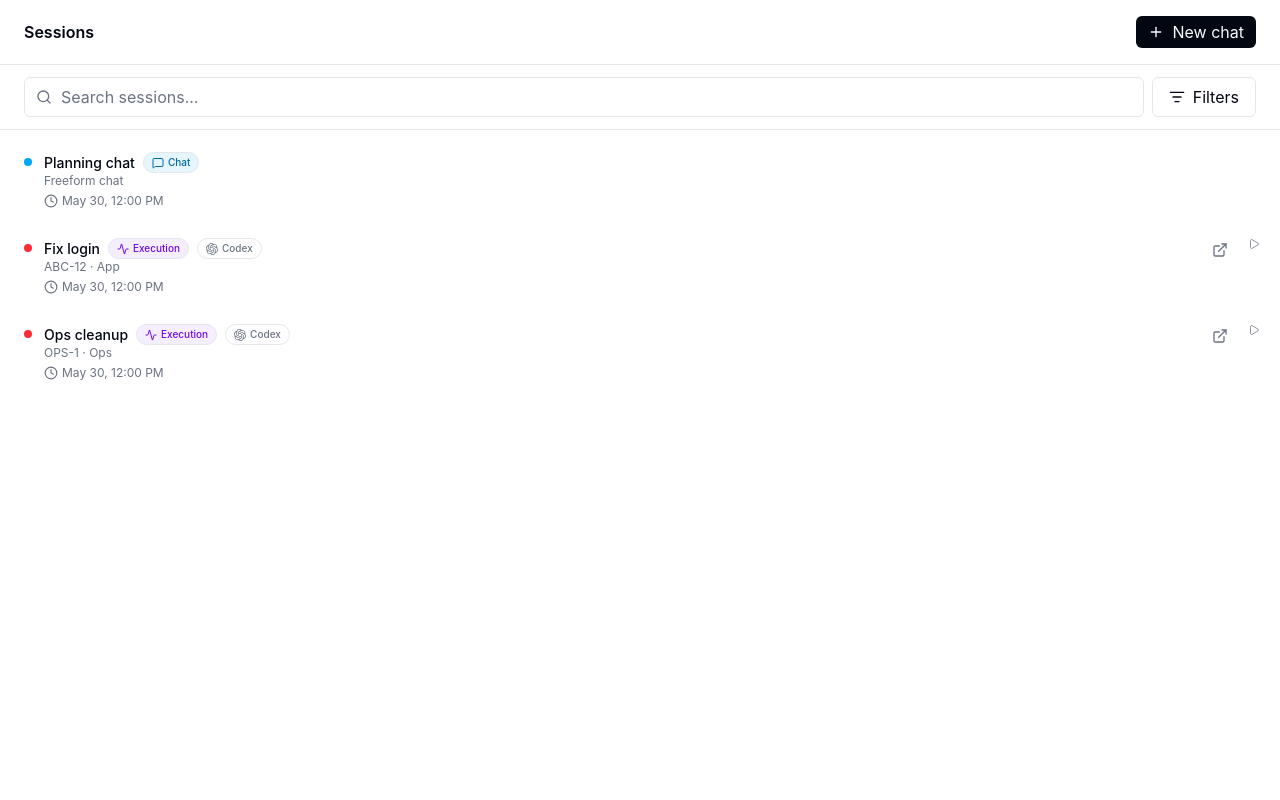
it: AssistantPage › filters sessions by type, status, and project from the drawer
Click the button "Filters" at (1204, 97), box [1152,77,1256,117]
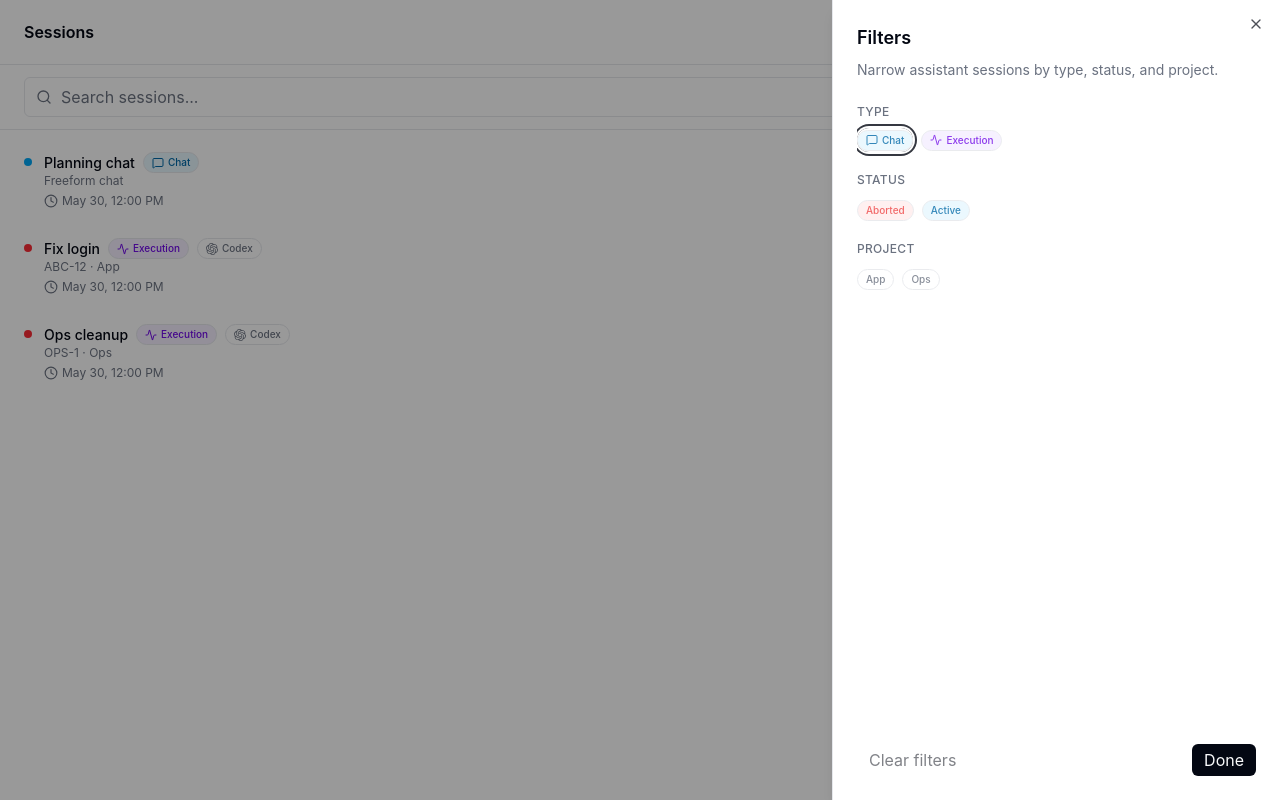
Expected: the picture "Execution" is shown
Expected: the picture "Aborted" is shown, [857,200,914,221]
Click the button "Execution" at (962, 140), box [921,128,1002,152]
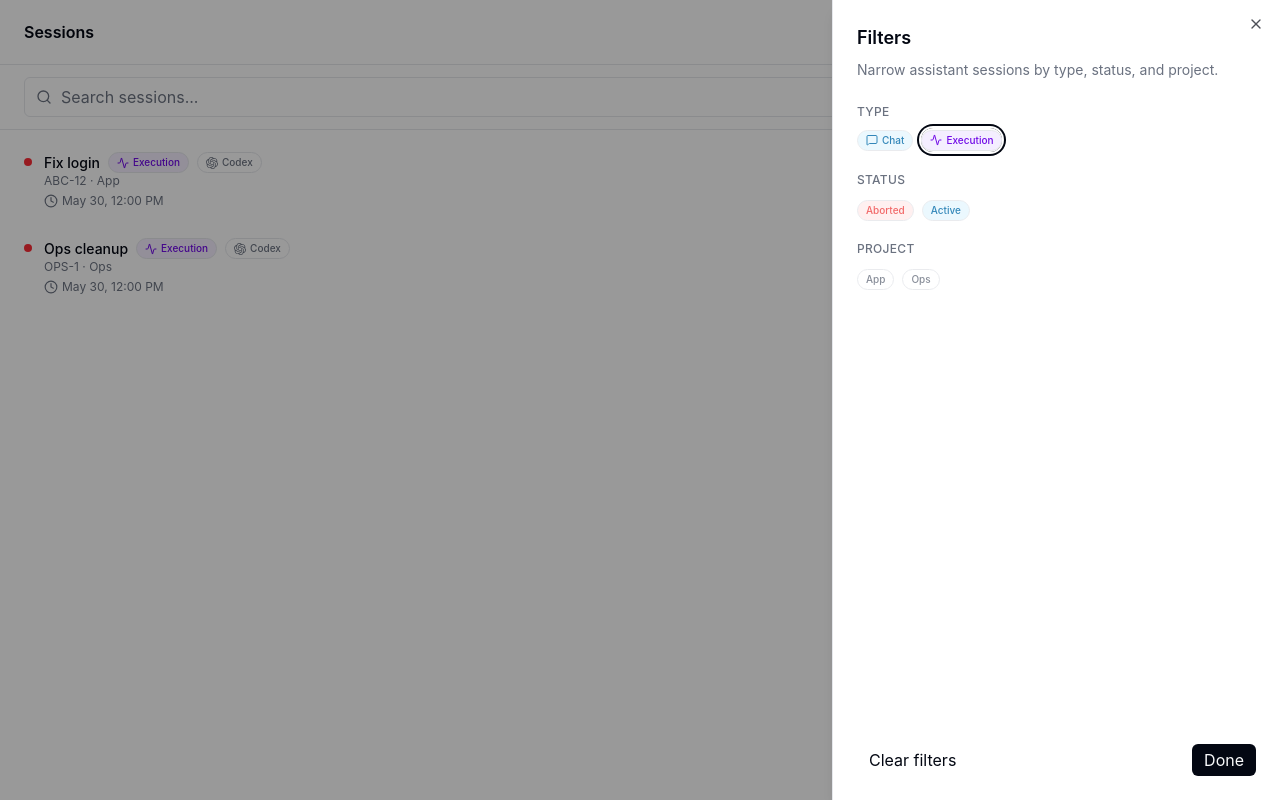
Click the button "Aborted" at (885, 208), box [857,196,914,221]
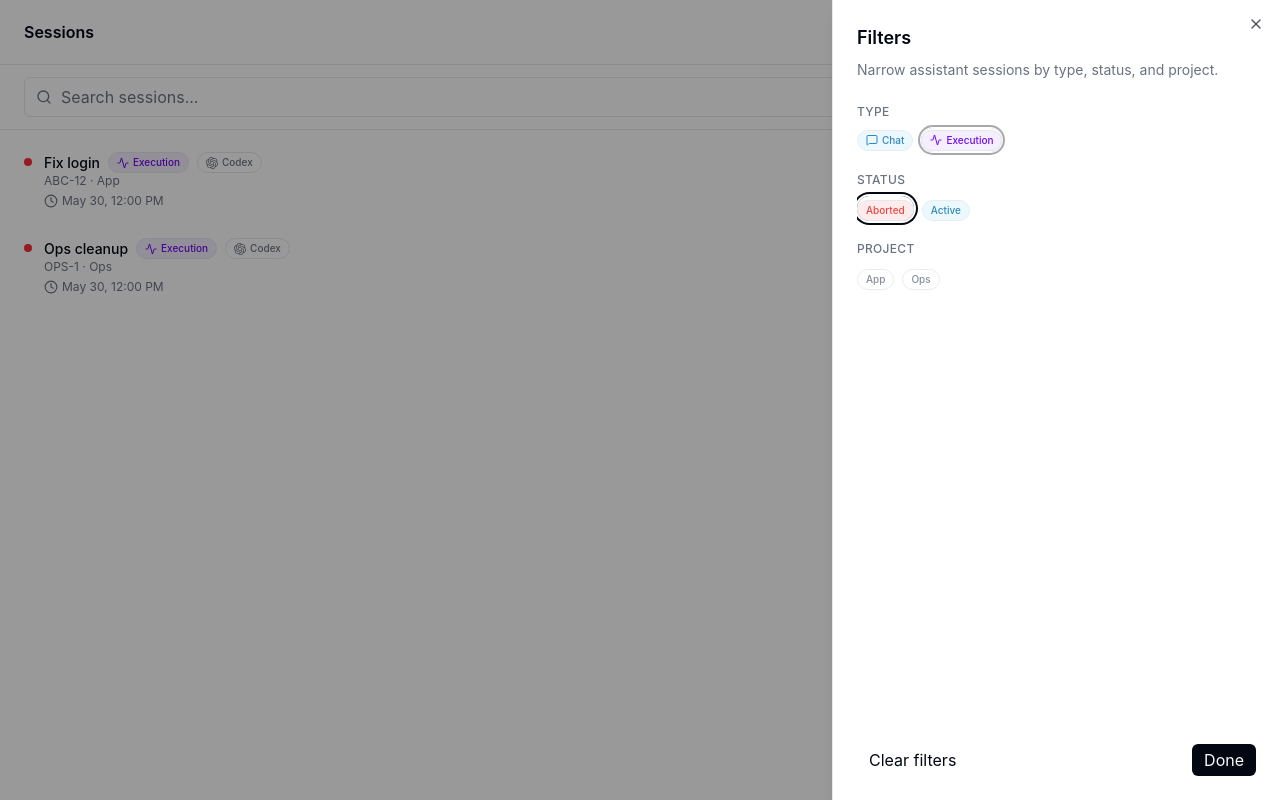
Click the button "App" at (876, 278), box [857,265,894,290]
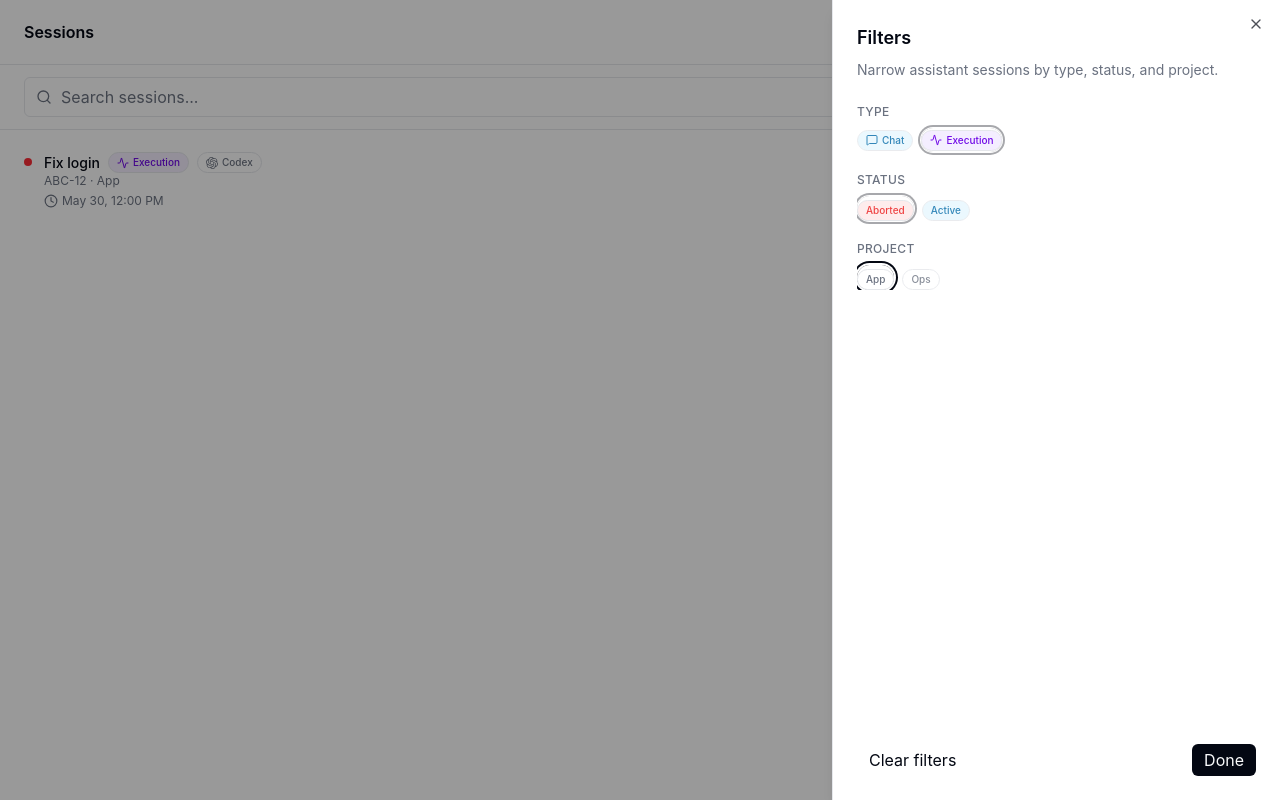
Click the button "Done" at (1224, 760), box [1192,744,1256,776]
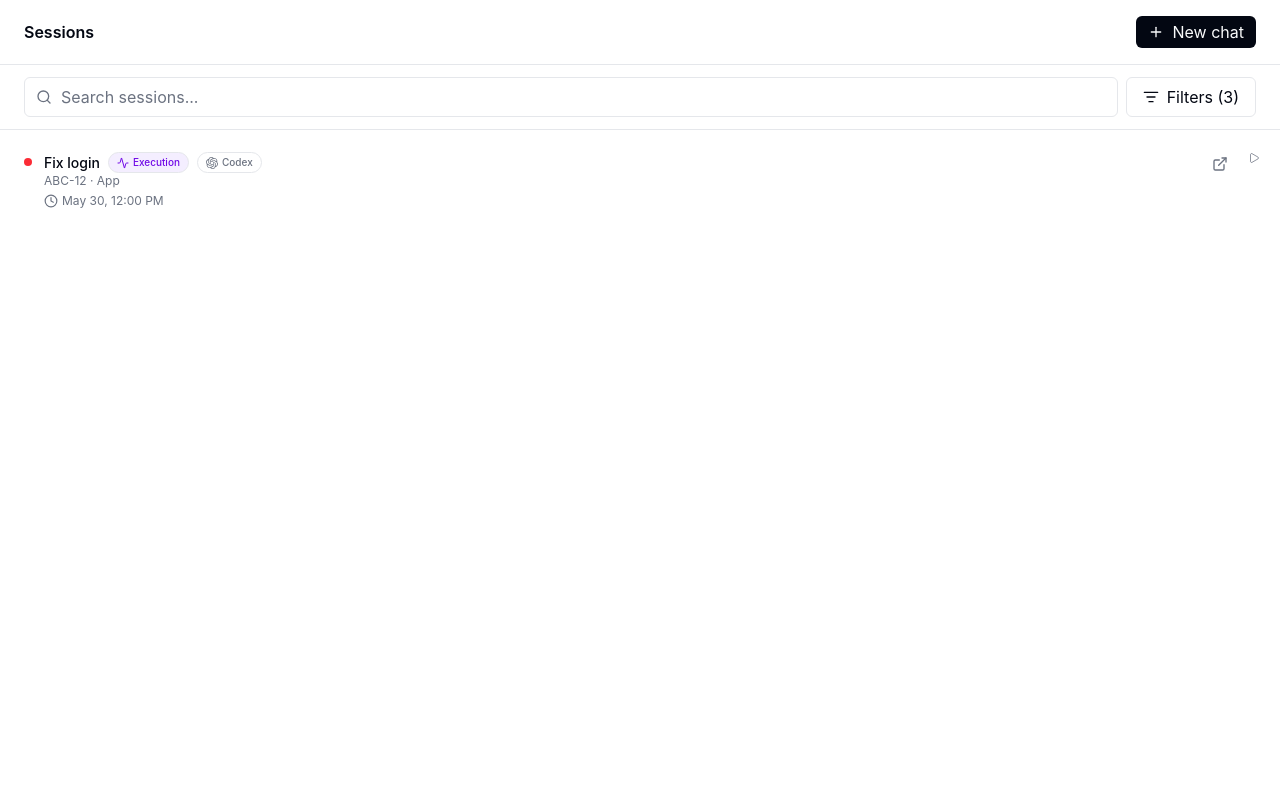
Expected: the link "Fix login Execution Codex ABC-12 · App May 30, 12:00 PM" is shown, [24,152,262,208]
Expected: the button "Filters (3)" is shown, [1126,77,1256,117]
Expected: the picture "Planning chat" is gone
